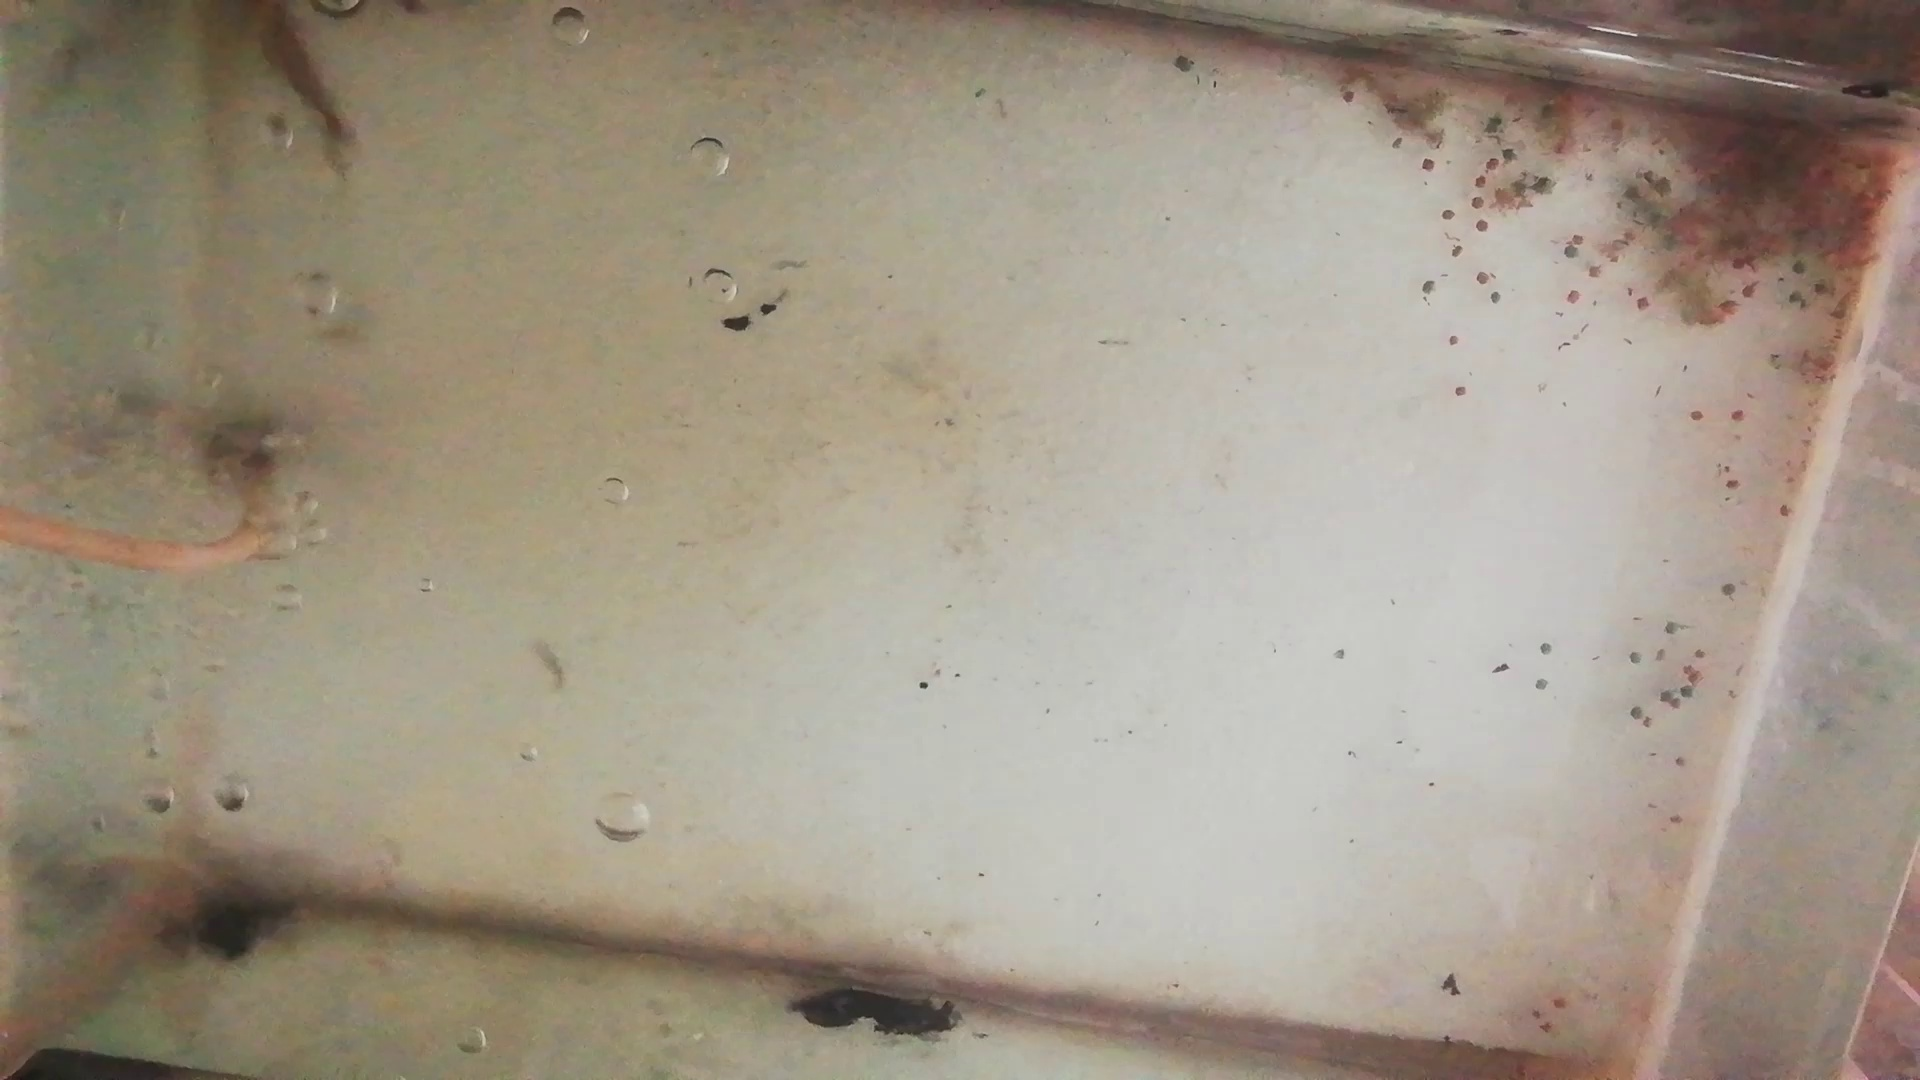fish: (245, 1, 357, 154)
